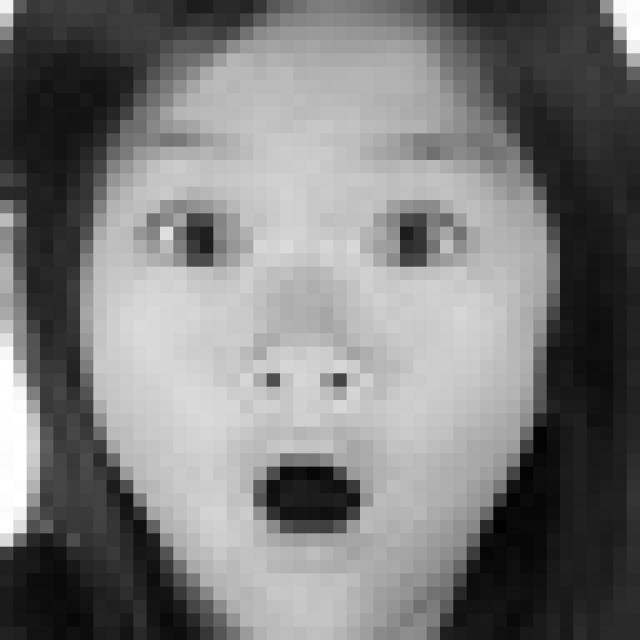surprise: (106, 108, 523, 562)
